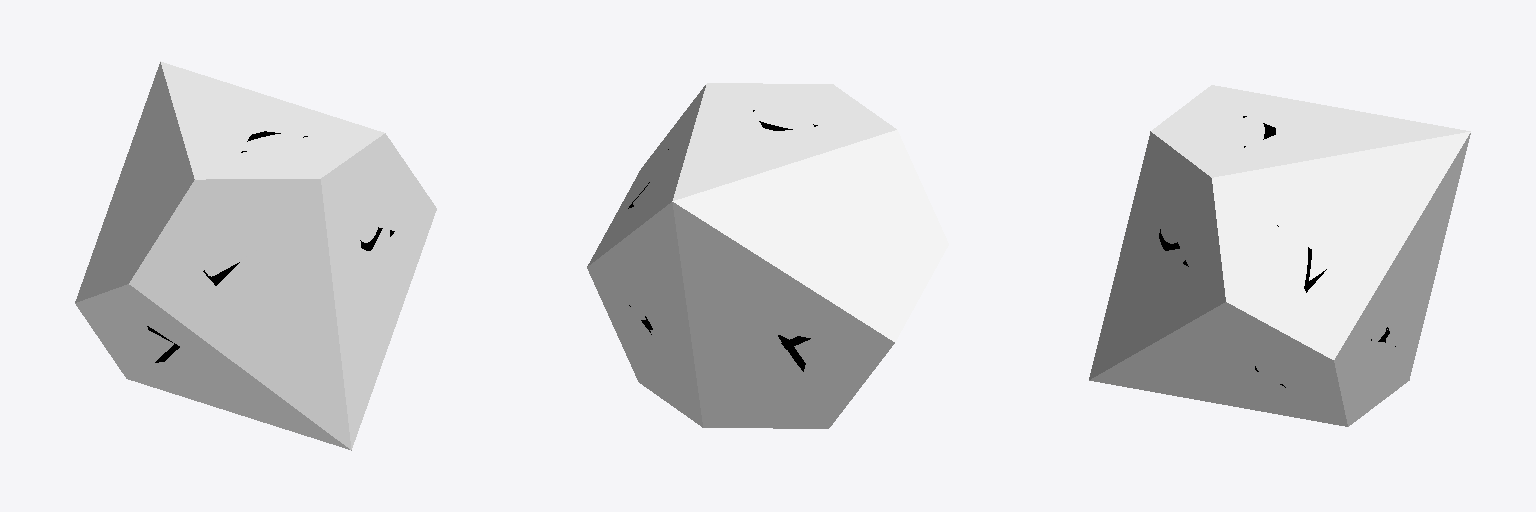
The model's file is StandardD100.obj.
3 views of the same model, side by side, from view 1: azimuth 30°, elevation 25°; view 2: azimuth 150°, elevation 25°; view 3: azimuth 270°, elevation 25° (orthographic).
Visible parts, largest first — view 1: StandardD100_Cone.004; view 2: StandardD100_Cone.004; view 3: StandardD100_Cone.004.
Part boxes in pixels (x1,y1,x2,y2): StandardD100_Cone.004: (75,61,436,450); StandardD100_Cone.004: (587,83,948,428); StandardD100_Cone.004: (1089,85,1470,426).
Bounding box in the file's own units: 2.5 × 1.93 × 2.69.